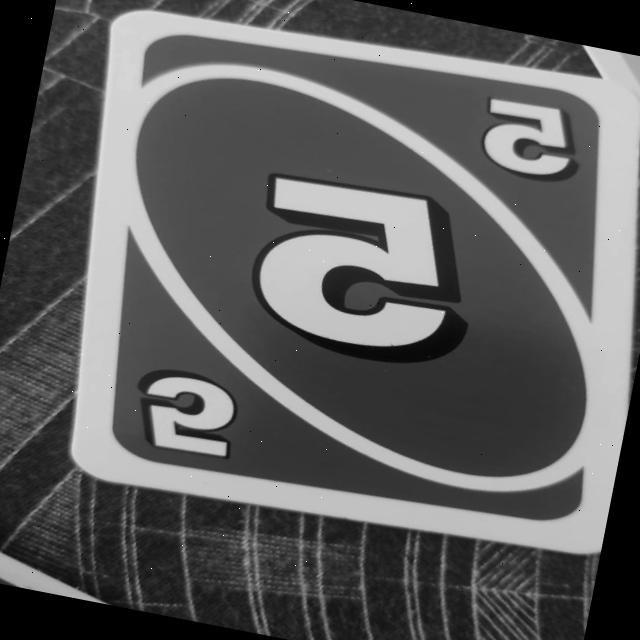card_5: (25, 0, 640, 576)
